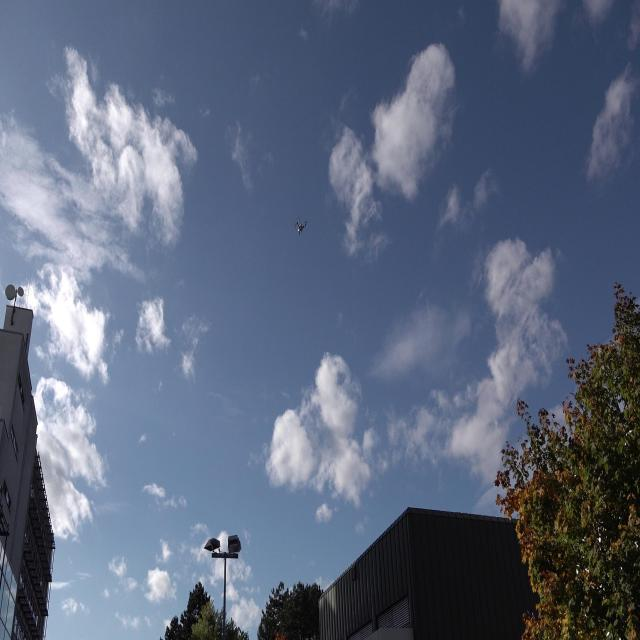drone: (292, 210, 310, 240)
